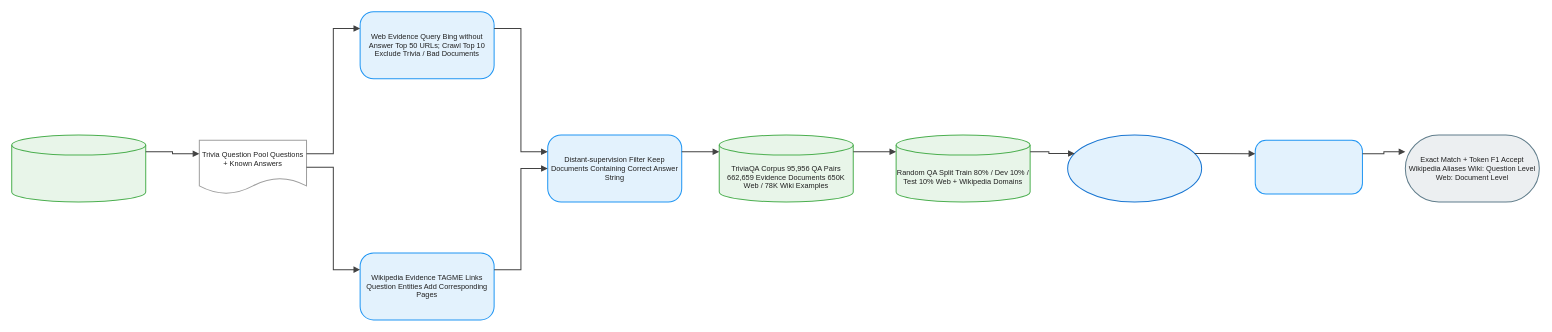
Some shapes in this 1552 by 332 pixel diagram are drawn without their labels. Each missing label, with the centre of its shape:
"14 Trivia / Quiz-league Sites Collect QA Pairs Drop Questions <4 Tokens" goes at (78,168).
"Human-verified Dev / Test Annotator Answers or Abstains Publish Clean Subsets" goes at (1134,168).
"Reading-comprehension Model Predict Answer from Evidence" goes at (1308,167).
